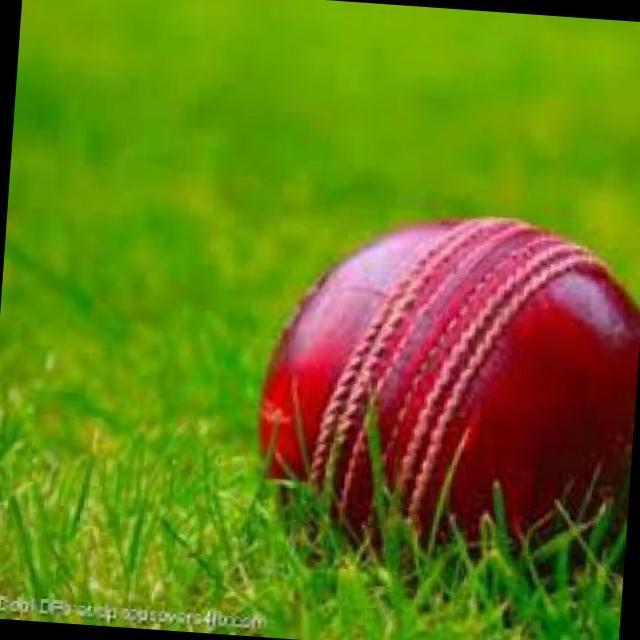Red_Ball: (246, 216, 640, 577), (271, 390, 285, 399)
